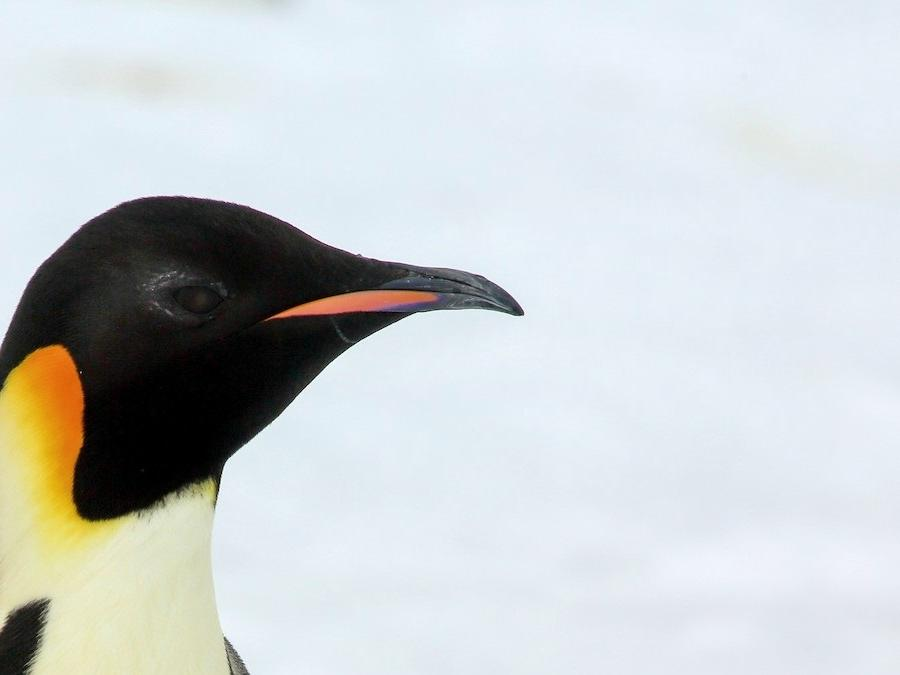Emperor Penguin: (0, 180, 537, 675)
